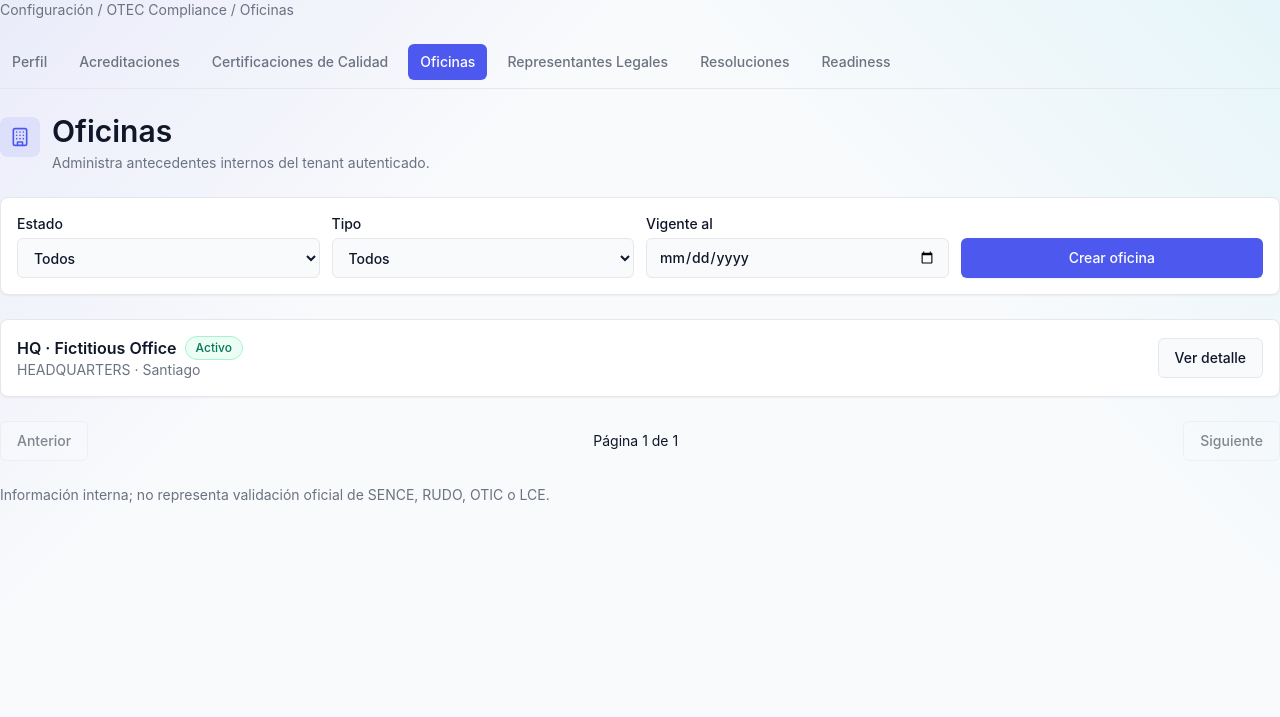
OTEC administrative pages › requires confirmation before Office deactivation
This screenshot has width=1280, height=717.
Click the button "Ver detalle".
click(1210, 358)  # box x1=1158 y1=338 x2=1263 y2=378
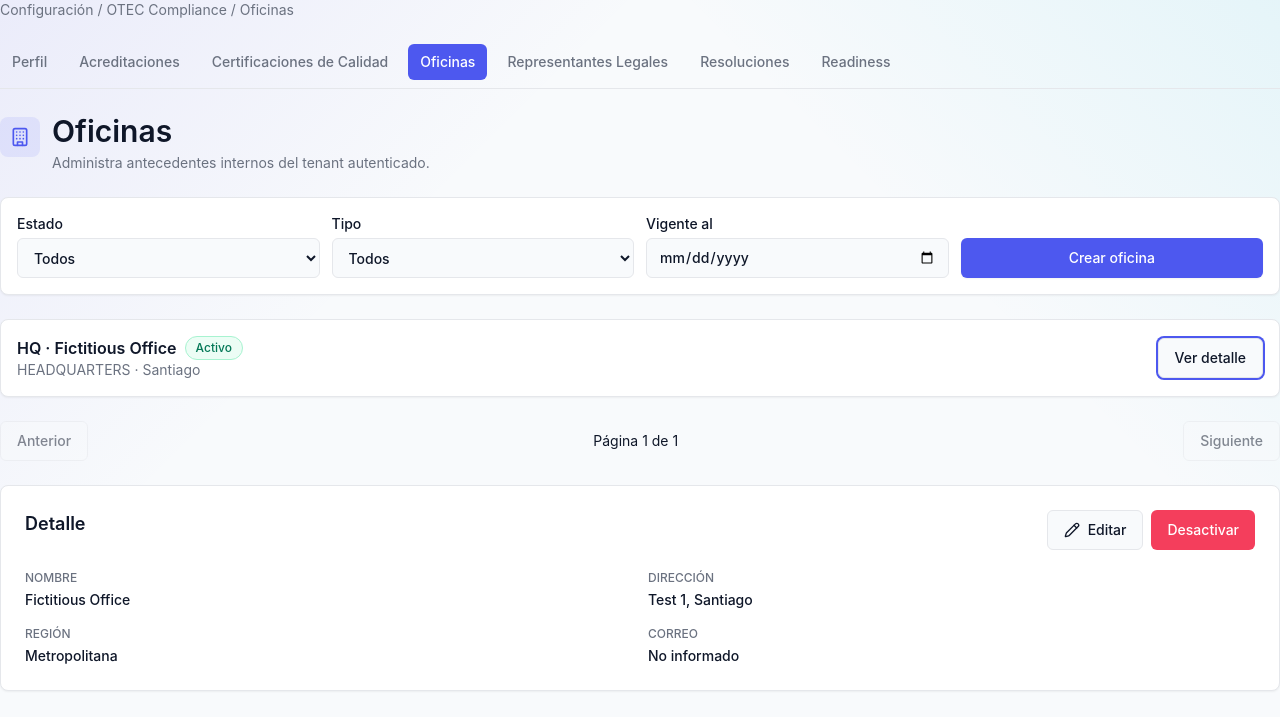
Click the button "Desactivar".
click(1203, 530)  # box x1=1152 y1=510 x2=1255 y2=550
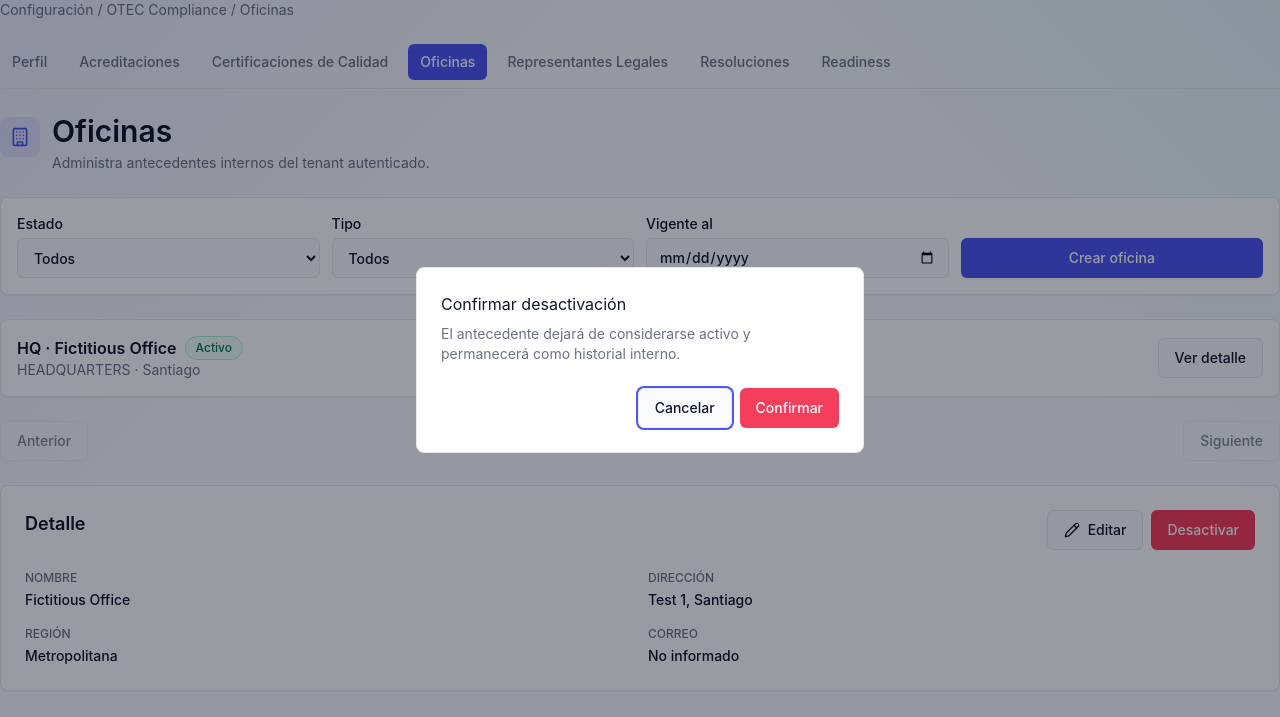
Expected: the dialog shows "historial interno", x1=441 y1=325 x2=751 y2=362
